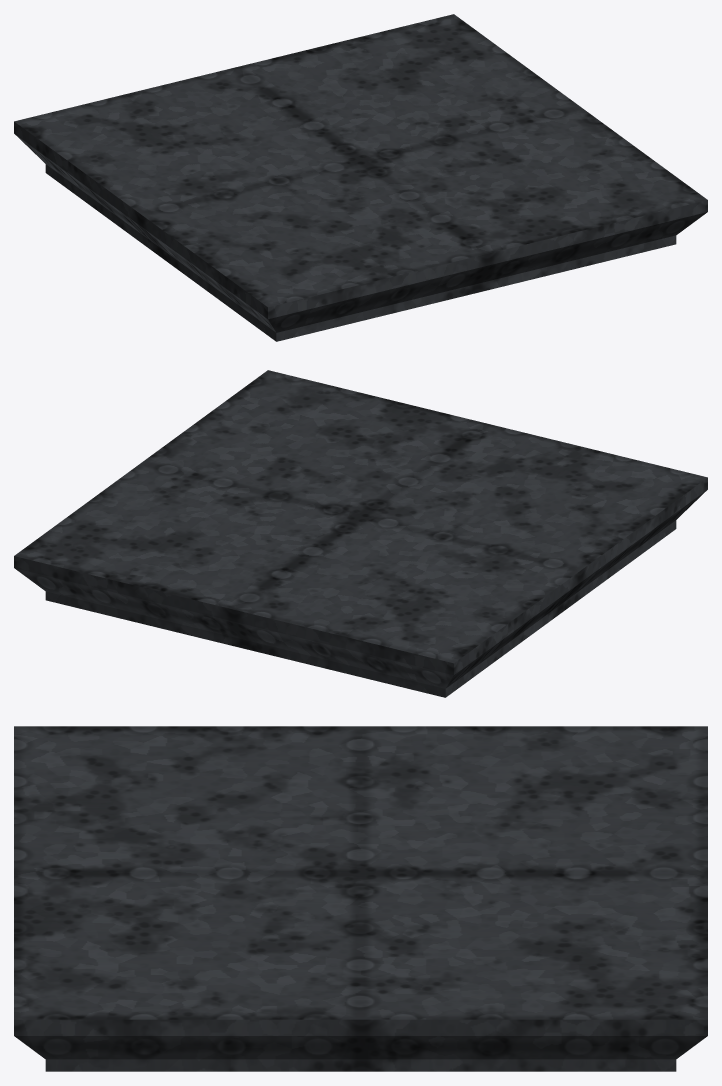
The model's file is kit_cornice.glb.
3 views of the same model, one above another, from view 1: azimuth 30°, elevation 25°; view 2: azimuth 150°, elevation 25°; view 3: azimuth 270°, elevation 25° (orthographic). The views are drawn at different scales.
Parts seen in each view (by area): view 1: kit_cornice; view 2: kit_cornice; view 3: kit_cornice.
Boxes of the visible parts, <box> form: kit_cornice: <box>14,14,707,341</box>; kit_cornice: <box>14,370,707,697</box>; kit_cornice: <box>14,726,707,1071</box>.
Bounding box in the file's own units: 3.08 × 0.32 × 3.08.
1 material, 1 textured.
